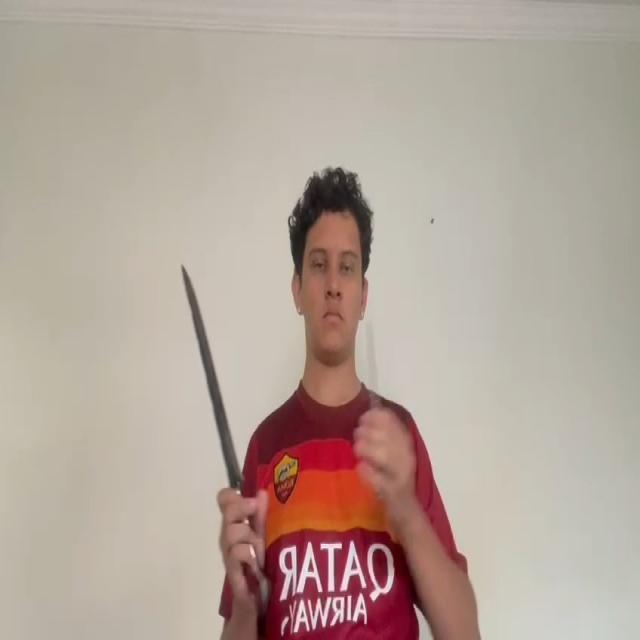knife: (180, 264, 238, 486)
